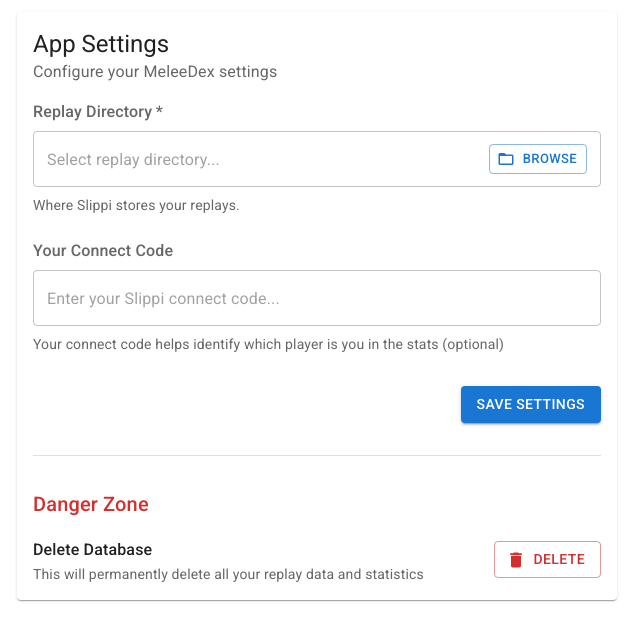
Test: SettingsPage — the replay directory › will not save without one
Click the button "Save Settings" at (531, 404), box top-left (461, 386), bottom-right (601, 422)
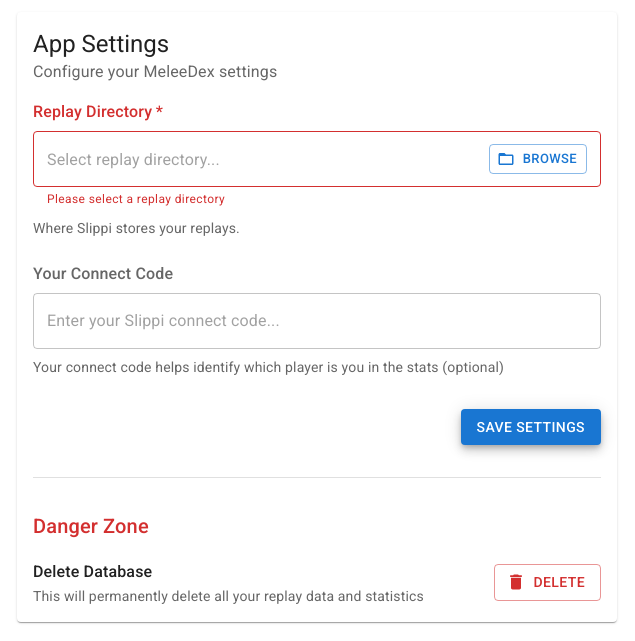
Now the text "Please select a replay directory" is shown, box top-left (47, 192), bottom-right (225, 206)
